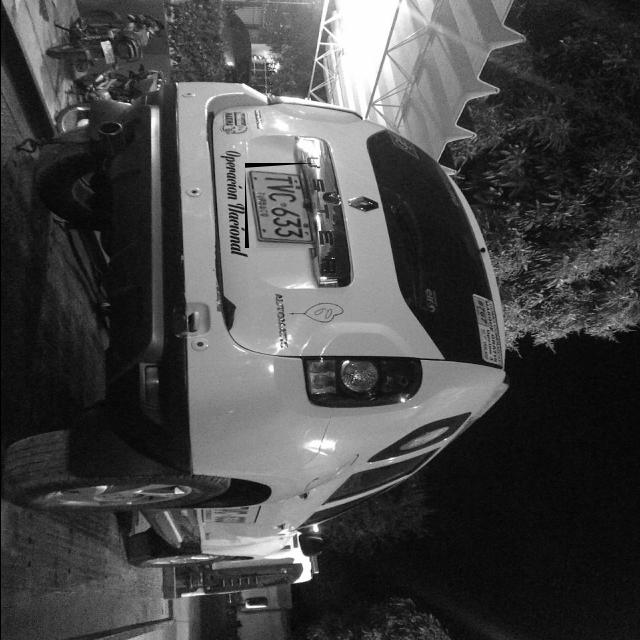plate: (244, 167, 316, 248)
